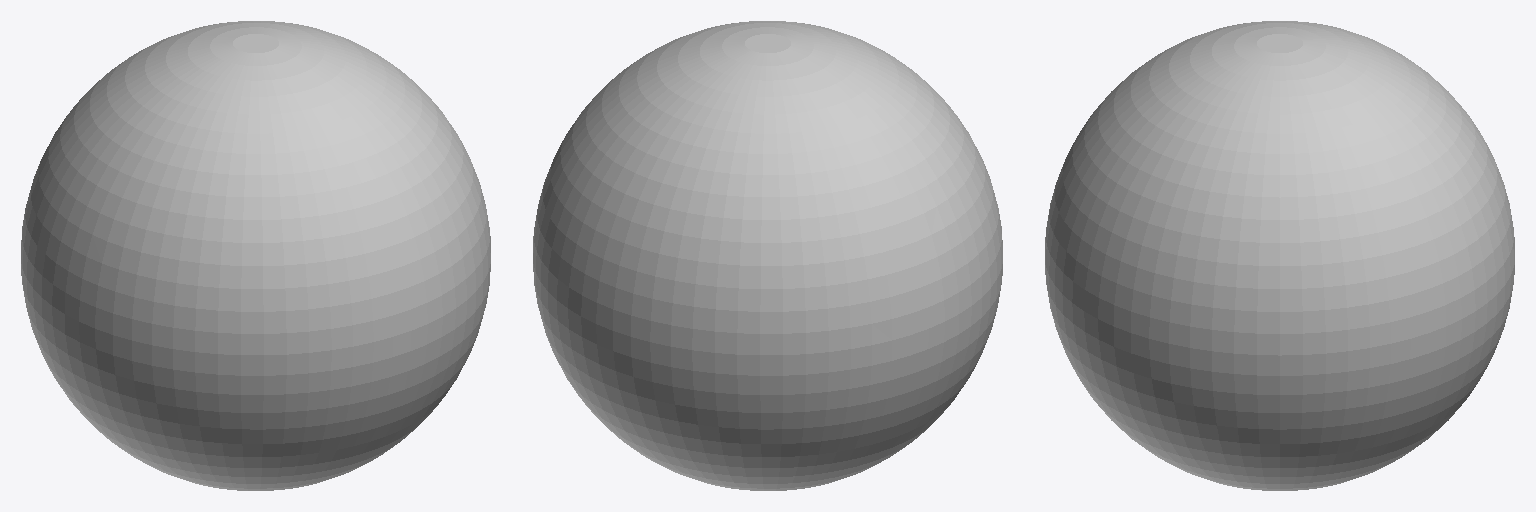
File: ball8.obj
3 renders of one model, left to right at view 1: azimuth 30°, elevation 25°; view 2: azimuth 150°, elevation 25°; view 3: azimuth 270°, elevation 25°, orthographic.
Visible parts, largest first — view 1: planet_Sphere.002; view 2: planet_Sphere.002; view 3: planet_Sphere.002.
Part boxes in pixels (left/top/right/bottom): planet_Sphere.002: left=21, top=21, right=490, bottom=490; planet_Sphere.002: left=533, top=21, right=1002, bottom=490; planet_Sphere.002: left=1045, top=21, right=1514, bottom=490.
Size of the model in its own units: 0.2214 by 0.2204 by 0.2214.